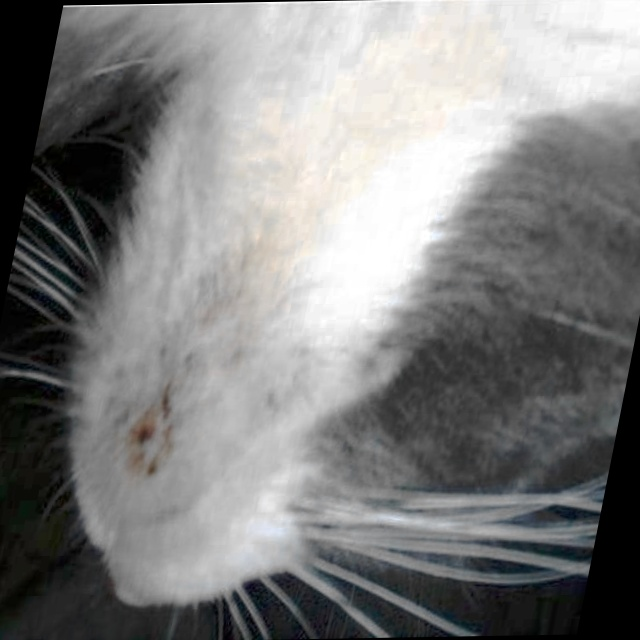acne: (96, 342, 189, 490)
